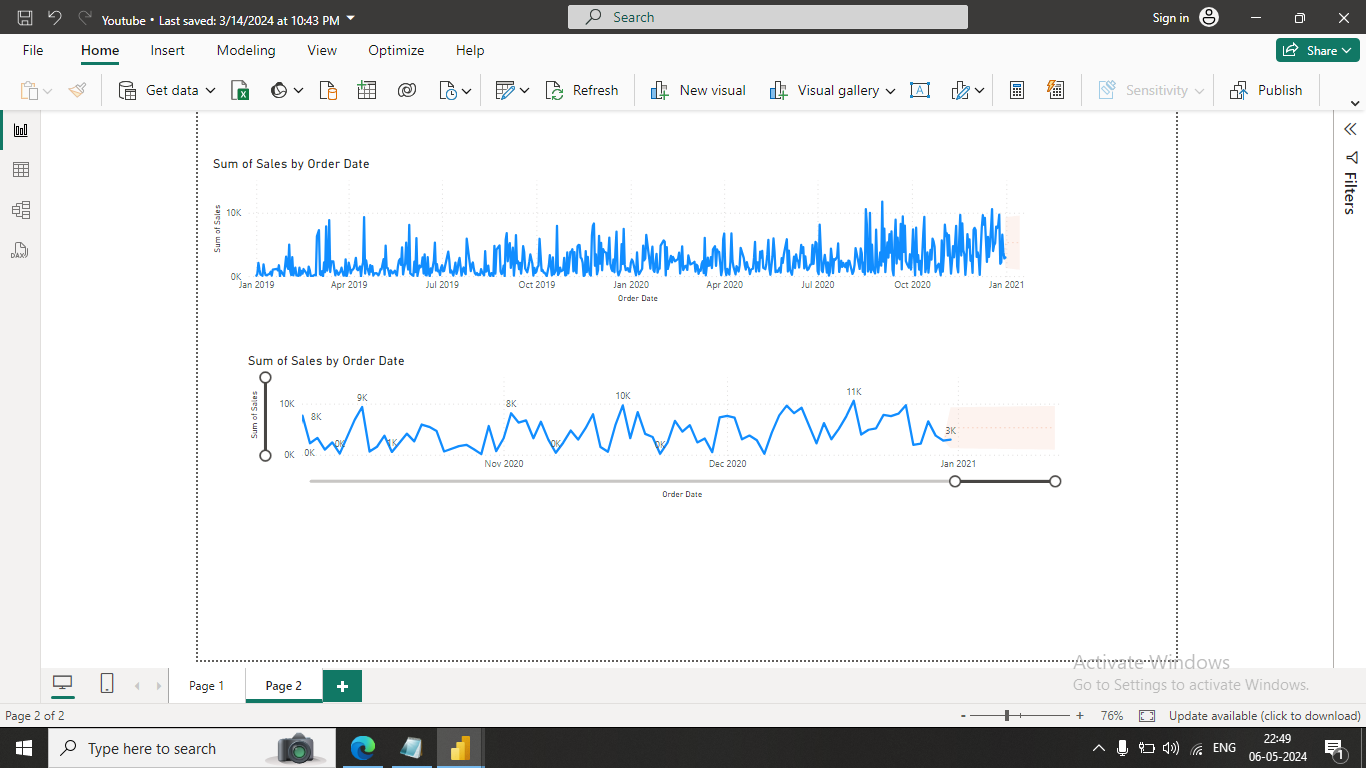

The page's visual inventory and layout, read from the dashboard file:
{"tool":"powerbi","page":{"name":"Page 2","canvas":[1280,720],"ordinal":1},"visuals":[{"type":"lineChart","fields":{"Y":["Sum(SuperStore_Sales_Dataset.Sales)"],"Category":["SuperStore_Sales_Dataset.Order Date"]},"box":[14.5,60.2,1090.4,196.4],"z":0},{"type":"lineChart","fields":{"Y":["Sum(SuperStore_Sales_Dataset.Sales)"],"Category":["SuperStore_Sales_Dataset.Order Date"]},"box":[189.2,326.5,1090.4,196.4],"z":1000}]}

Visuals, with their boxes on the page's 1280x720 design canvas (x1, y1, x2, y2). These are canvas units, not pixel positions in the 1366x768 screenshot, which may show the page scaled, cropped or inside an application window:
lineChart - Sum(SuperStore_Sales_Dataset.Sales) x SuperStore_Sales_Dataset.Order Date: [14, 60, 1105, 257]
lineChart - Sum(SuperStore_Sales_Dataset.Sales) x SuperStore_Sales_Dataset.Order Date: [189, 326, 1280, 523]
